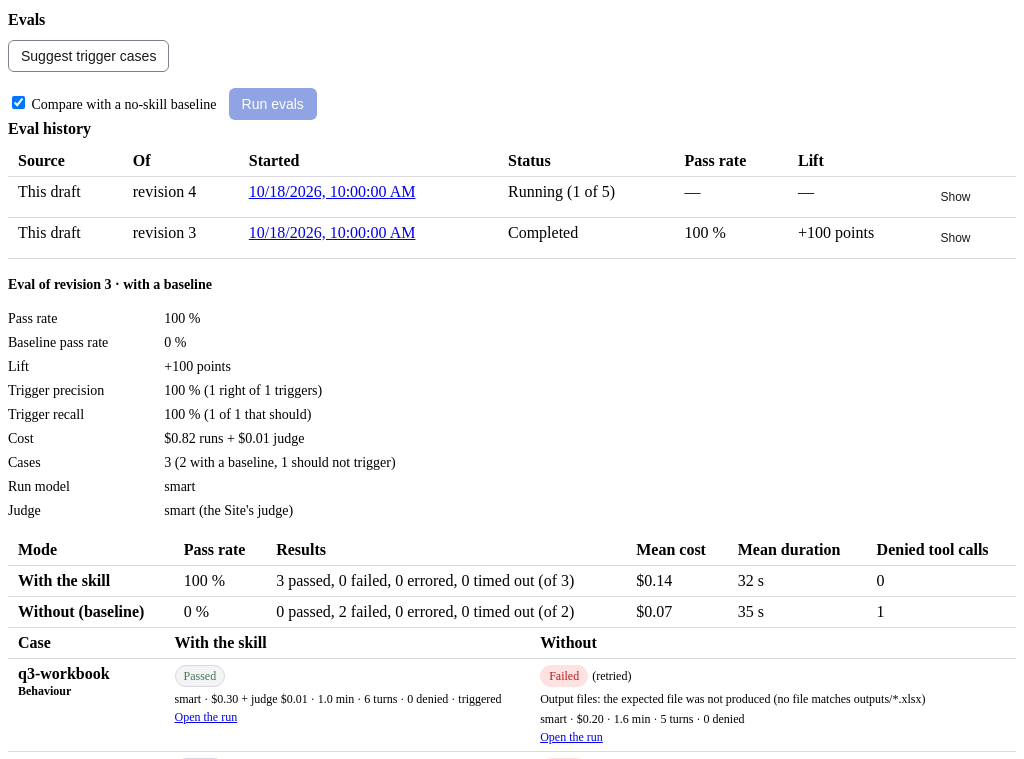
Test: the evals panel › ac-3: lists the draft's evals by revision, shows live progress and the picked scorecard
expect the text "revision 4" is shown: met, box [123, 176, 239, 218]
expect the text "revision 3" is shown: met, box [123, 218, 239, 258]
Step 1. Click the button with aria-label "Show the eval of " → (956, 197), box [932, 183, 980, 211]
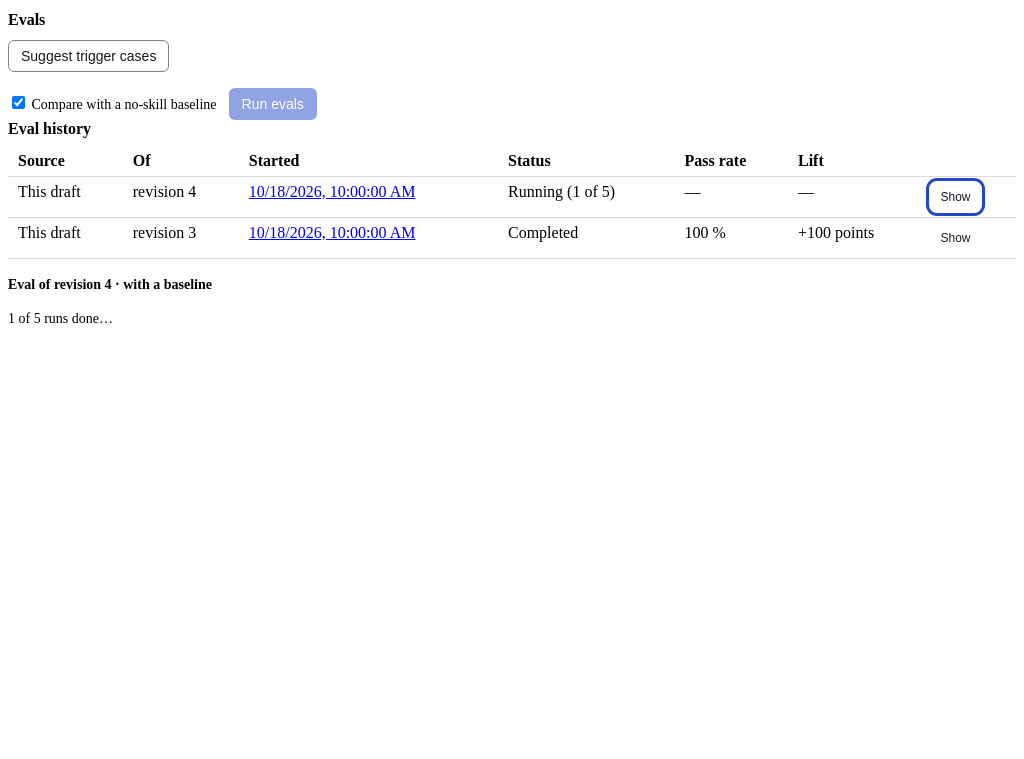
expect the element labelled "Eval of revision 4" shows "1 of 5 runs done": met, box [8, 277, 212, 326]
